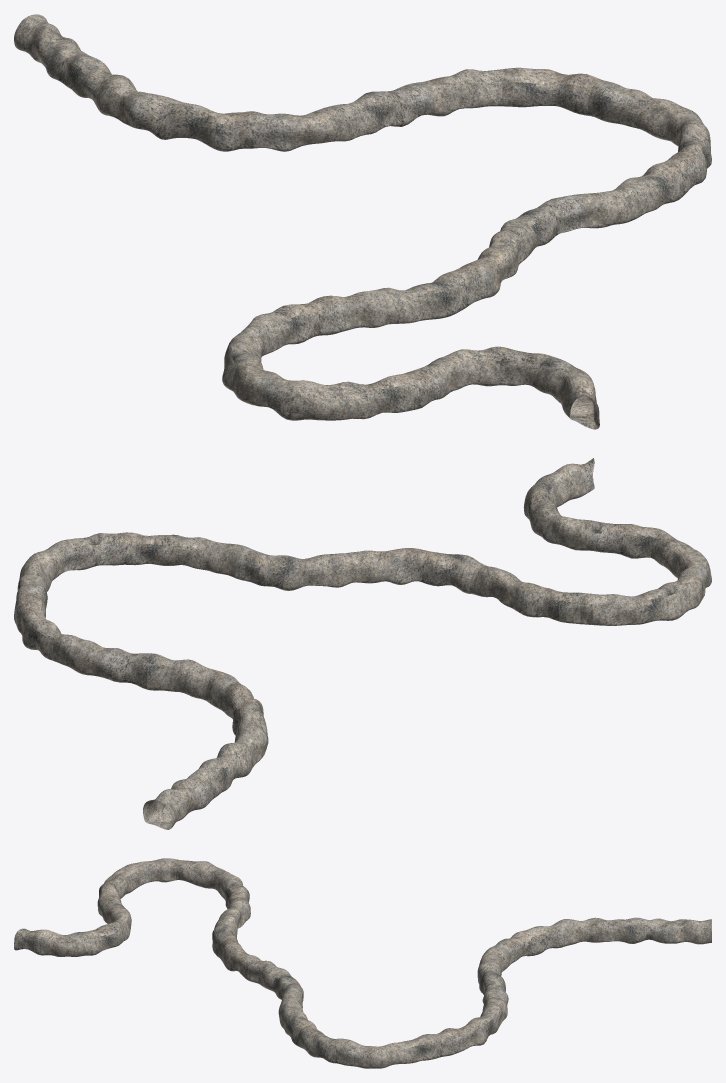
File: cave01.glb
3 renders of one model, top to bottom at view 1: azimuth 30°, elevation 25°; view 2: azimuth 150°, elevation 25°; view 3: azimuth 270°, elevation 25°, orthographic. The views are drawn at different scales.
Parts seen in each view (by area): view 1: Cave-col; view 2: Cave-col; view 3: Cave-col.
Boxes of the visible parts, box(x1,y1,x2,y2) form: Cave-col: box(14, 14, 711, 429); Cave-col: box(14, 458, 711, 829); Cave-col: box(14, 858, 711, 1068).
Size of the model in its own units: 634 by 36.17 by 952.
Materials: 1 (1 with a texture image).
